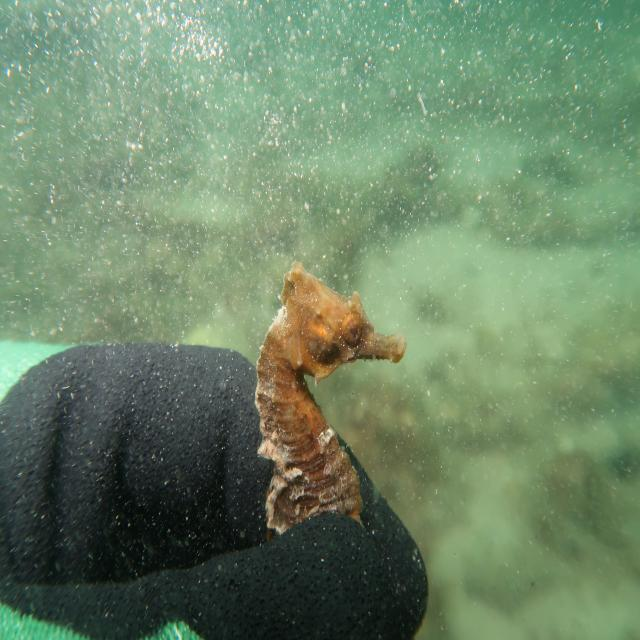Hippo: (275, 257, 413, 383)
